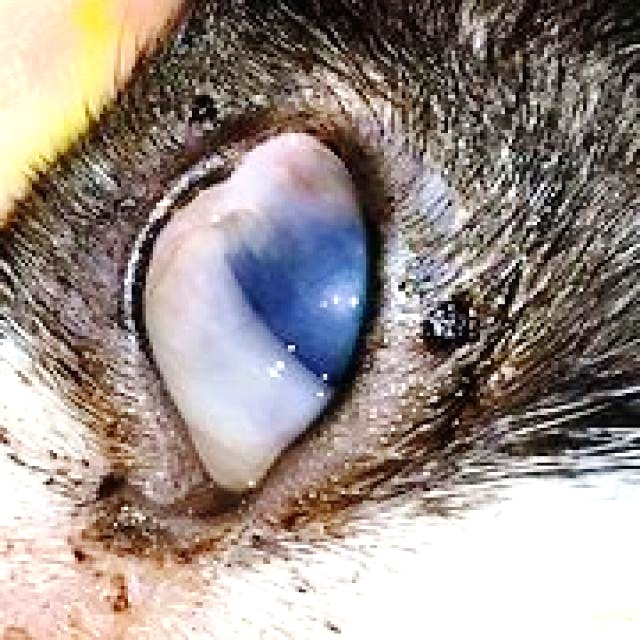eye_infection: (132, 120, 387, 504)
